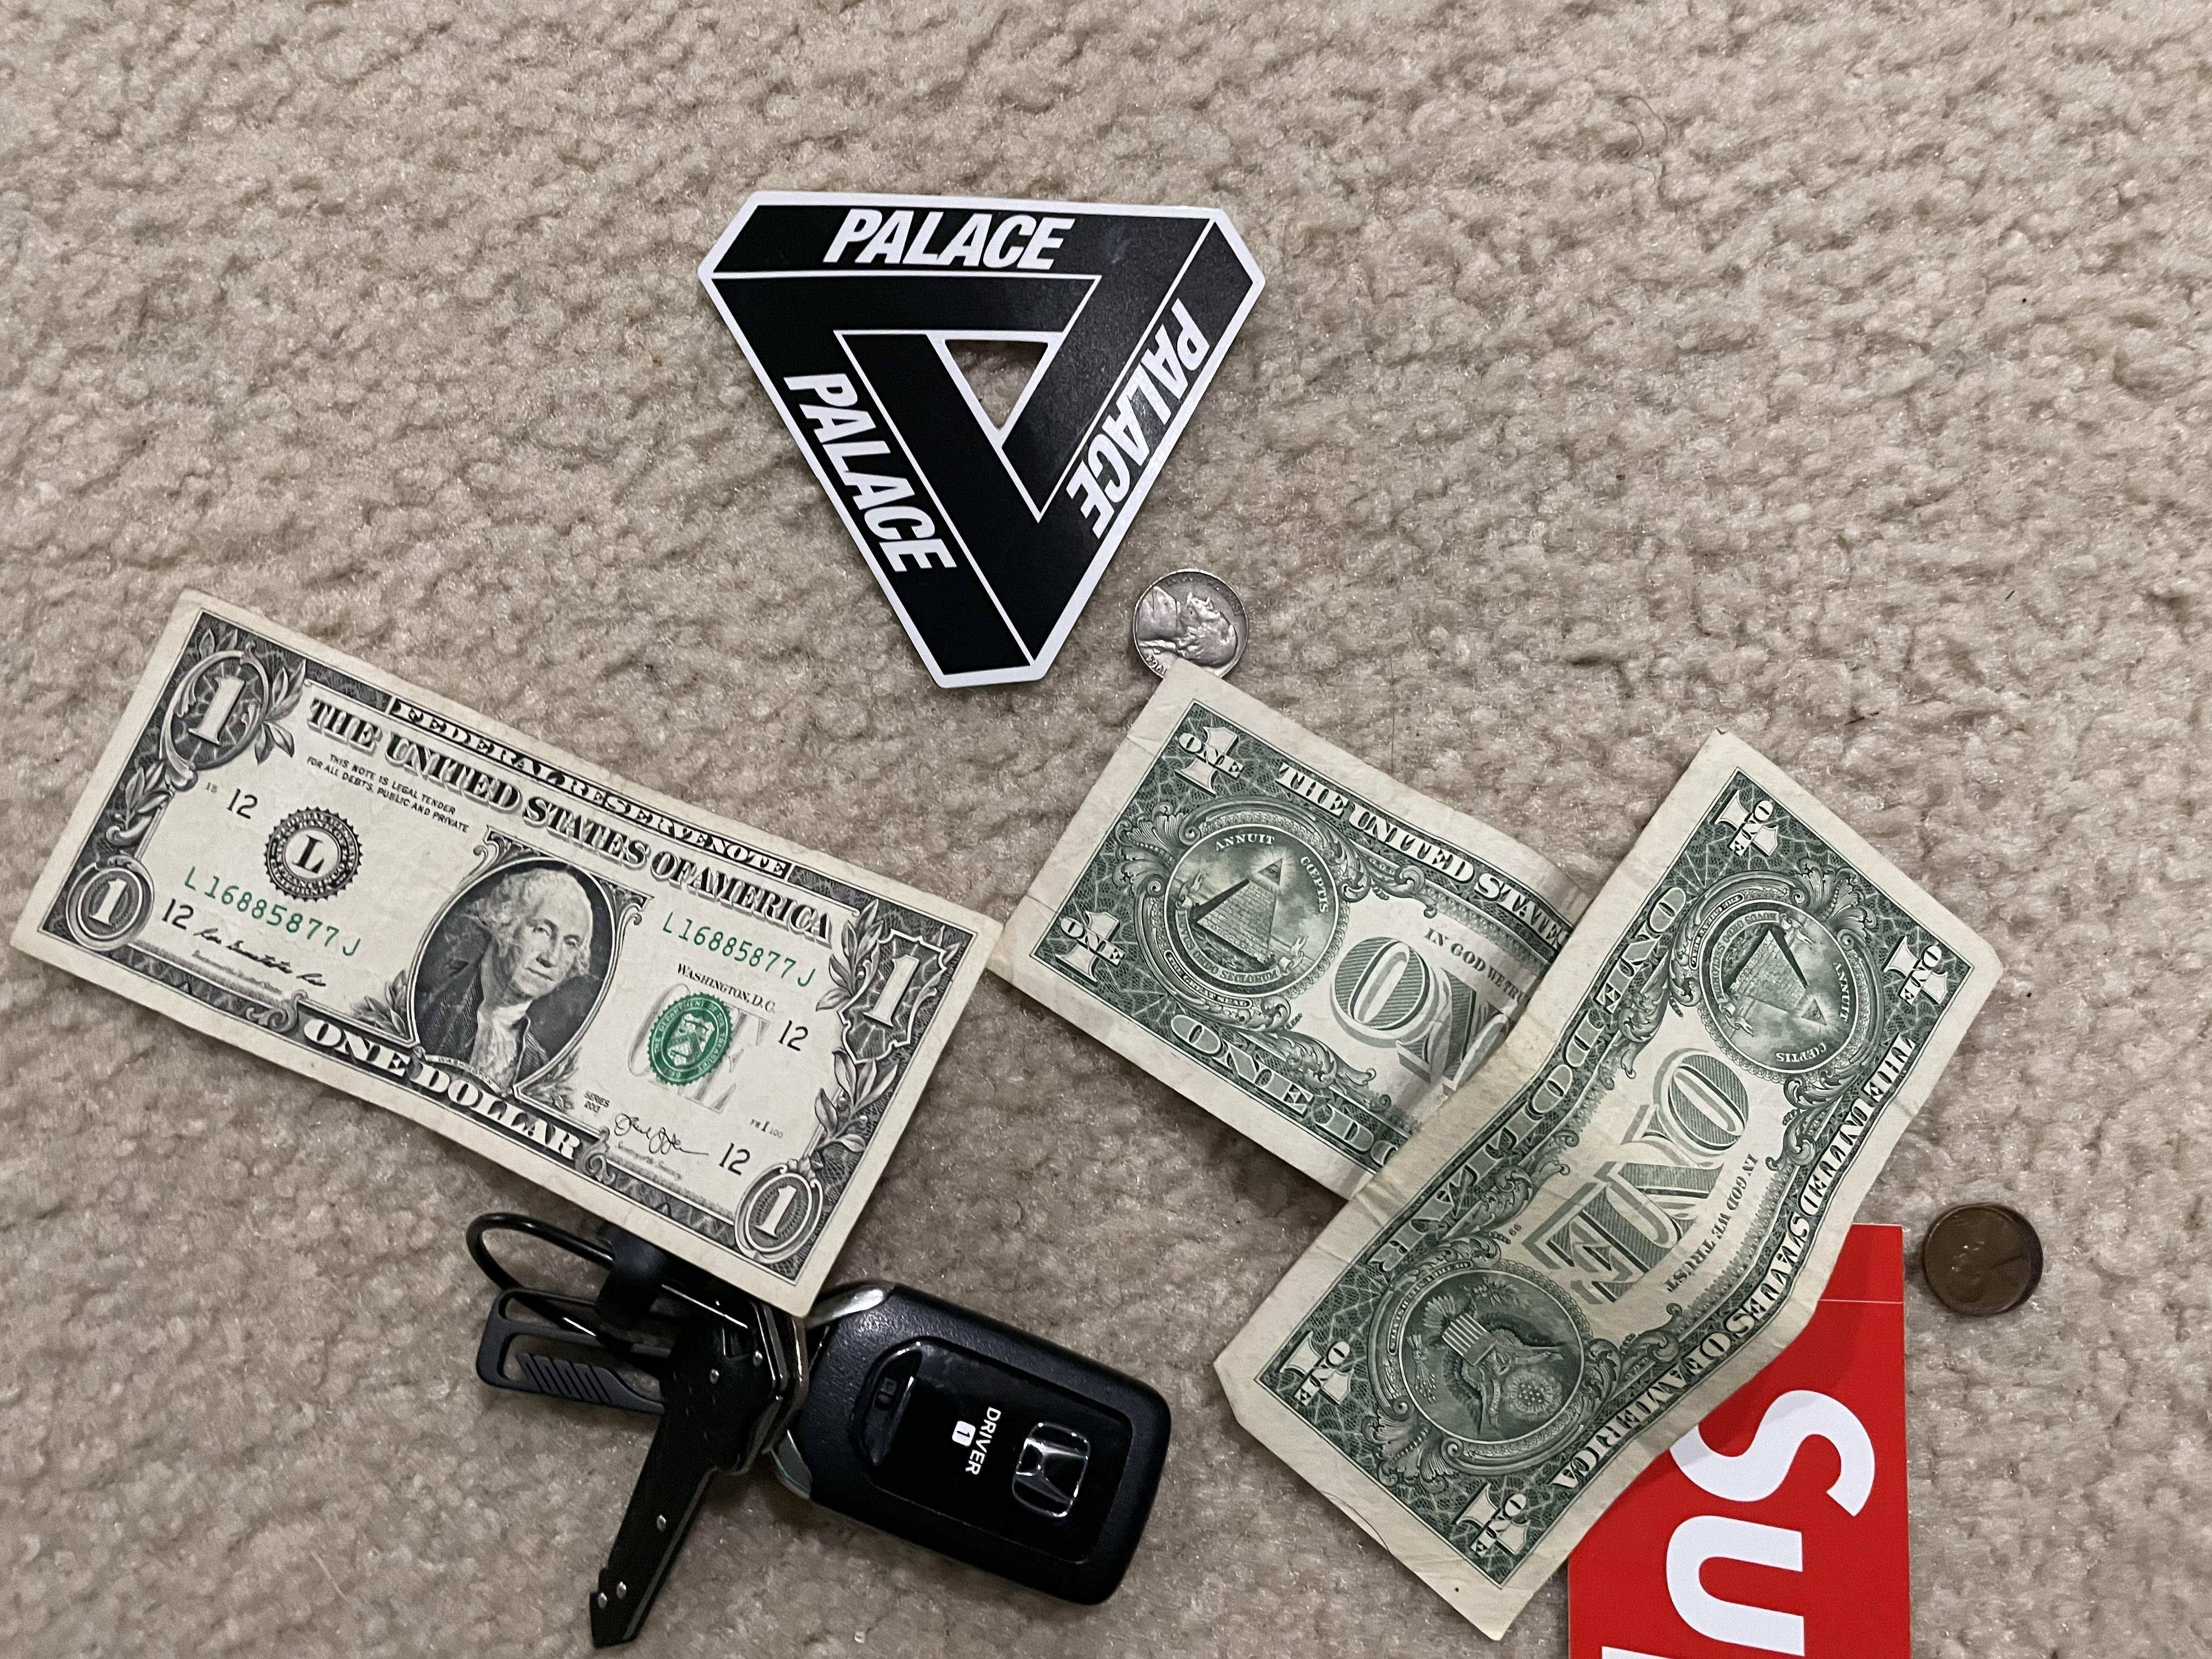Nickel: (1122, 554, 1270, 697)
OneBill: (16, 584, 1008, 1333), (1231, 725, 2006, 1624), (968, 657, 1608, 1220)
Penny: (1923, 1192, 2055, 1335)
